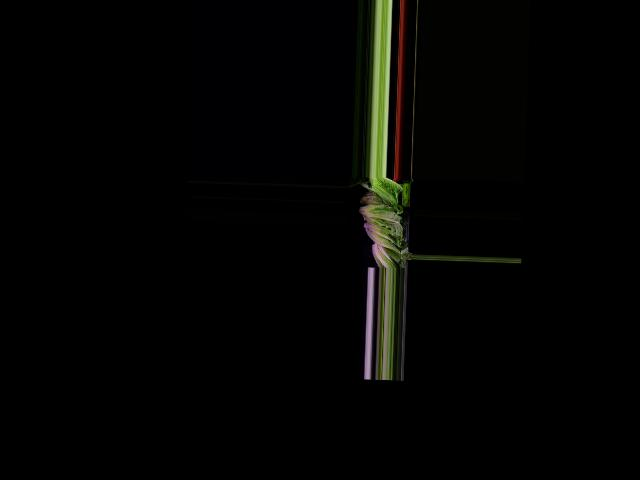lettuce: (369, 240, 399, 269)
